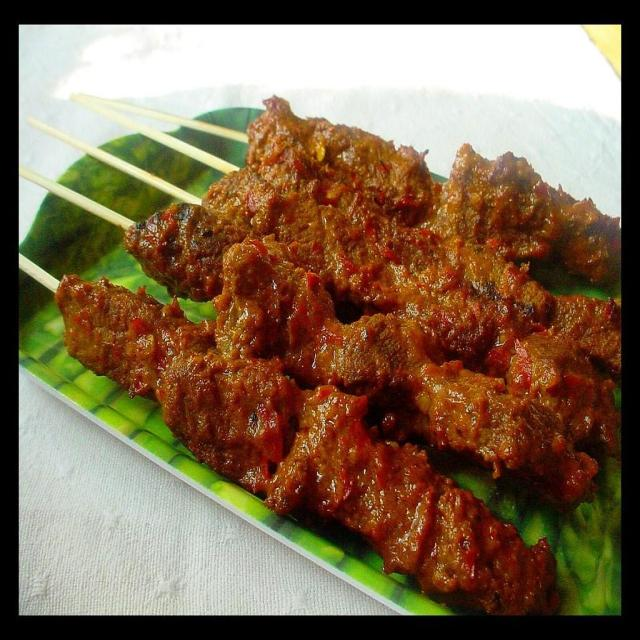Sate: (22, 64, 622, 606)
